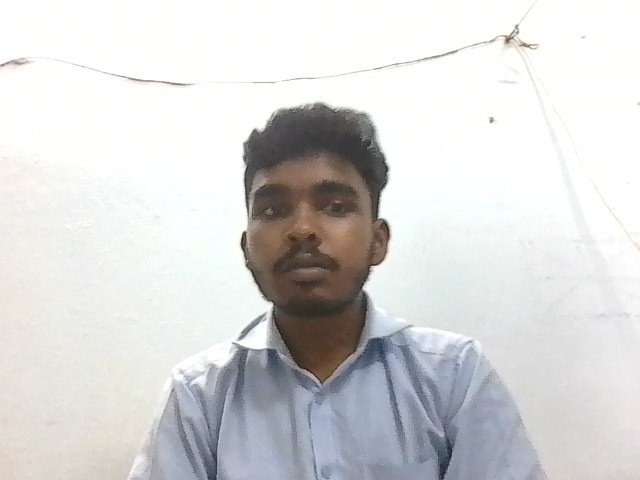real: (234, 100, 396, 329)
